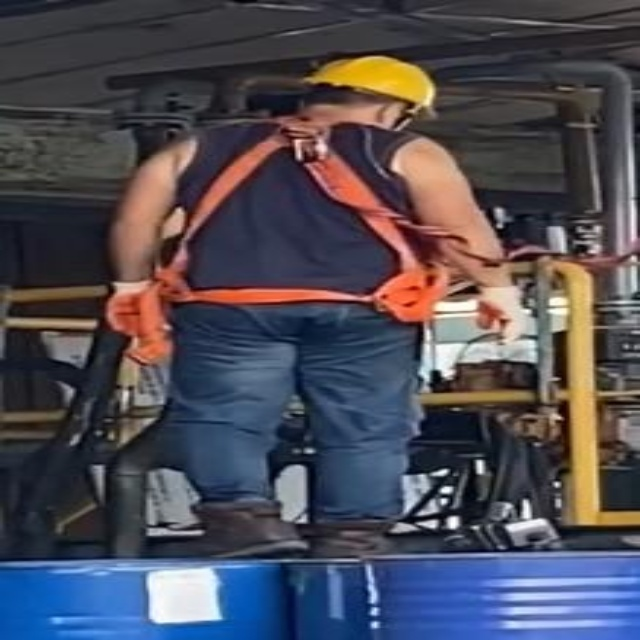Arnes_seguridad: (154, 112, 457, 328)
